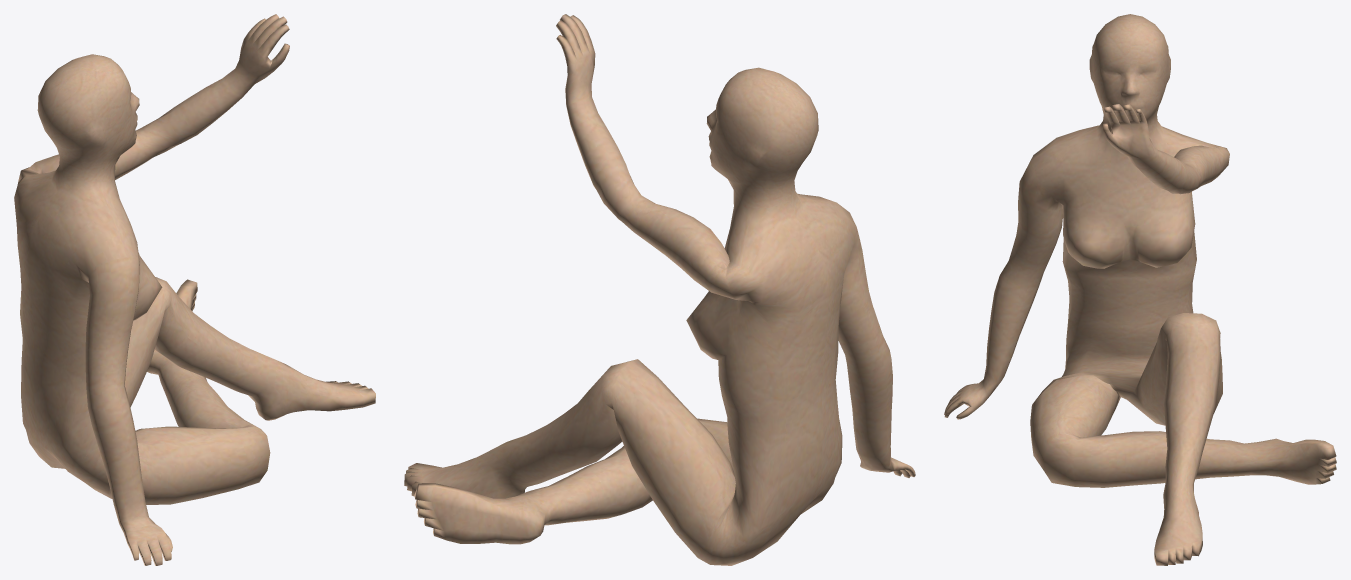
Rendered from woman1_aiSkin1_0.001.glb.
3 views of the same model, side by side, from view 1: azimuth 30°, elevation 25°; view 2: azimuth 150°, elevation 25°; view 3: azimuth 270°, elevation 25° (orthographic). The views are drawn at different scales.
Parts seen in each view (by area): view 1: woman1_aiSkin1_0.001; view 2: woman1_aiSkin1_0.001; view 3: woman1_aiSkin1_0.001.
Boxes of the visible parts, <box> form: woman1_aiSkin1_0.001: <box>14,14,375,565</box>; woman1_aiSkin1_0.001: <box>404,14,915,565</box>; woman1_aiSkin1_0.001: <box>944,14,1336,565</box>.
Bounding box in the file's own units: 1.45 × 1.65 × 1.43.
1 material, 1 textured.
